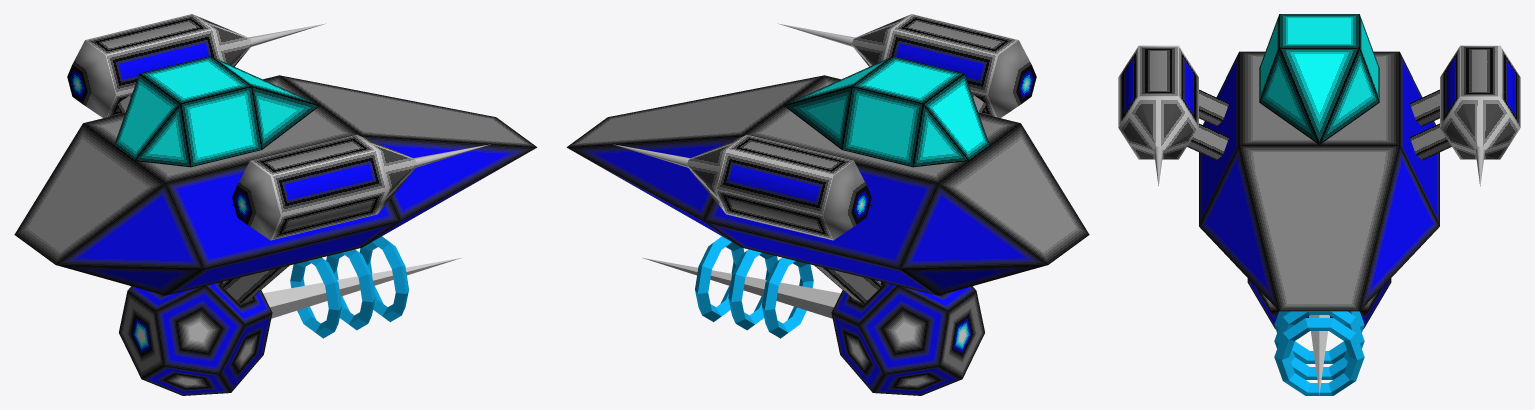
Rendered from Sagittarius.obj.
3 views of the same model, side by side, from view 1: azimuth 30°, elevation 25°; view 2: azimuth 150°, elevation 25°; view 3: azimuth 270°, elevation 25° (orthographic). The views are drawn at different scales.
Size of the model in its own units: 2.7 by 1.68 by 2.
3 materials, 3 textured.
